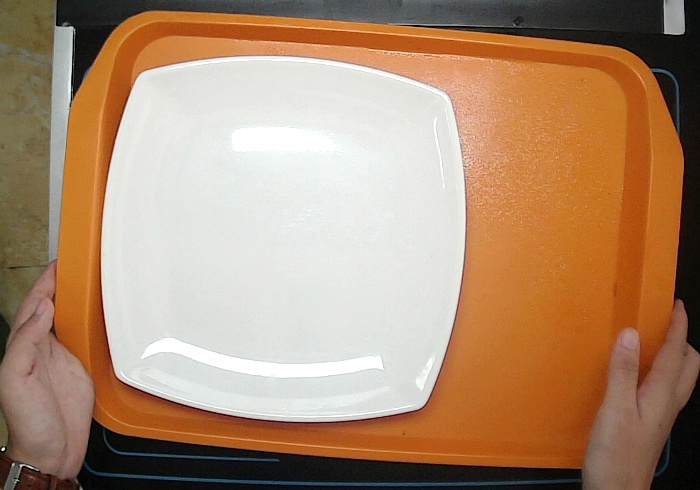ZNLD-Bai_Fang_Pan: (99, 51, 472, 434)
